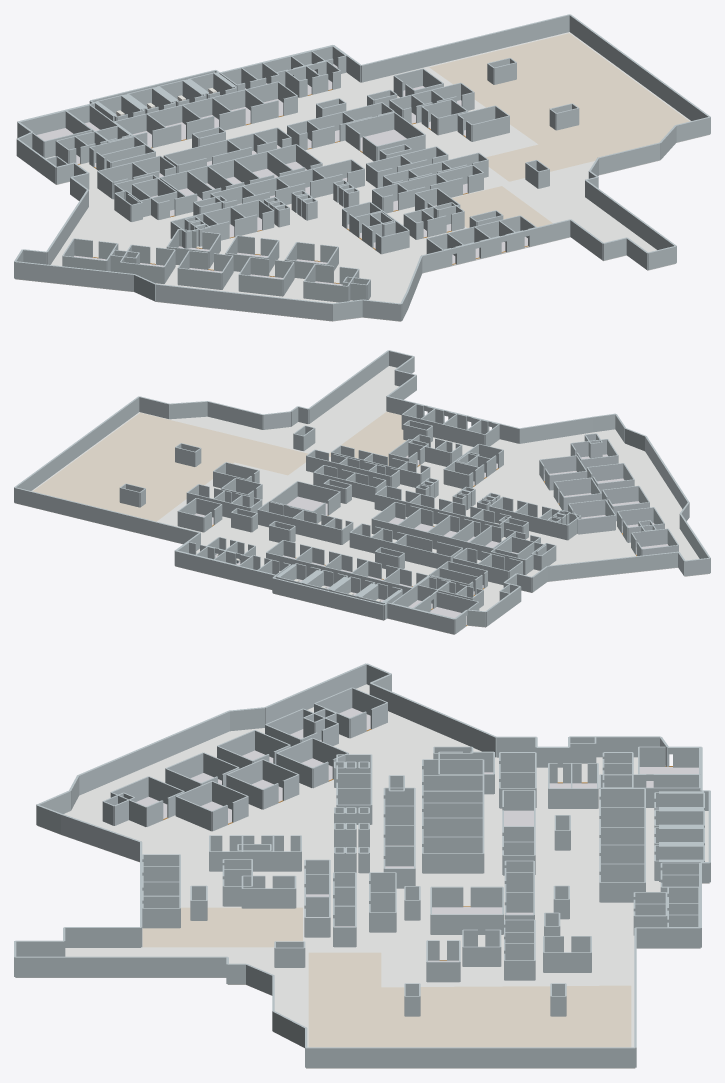
The model's file is dushu-B1.glb.
The picture shows the model from 3 angles, top to bottom: view 1: azimuth 30°, elevation 25°; view 2: azimuth 150°, elevation 25°; view 3: azimuth 270°, elevation 25°; orthographic projection. The views are drawn at different scales.
Parts seen in each view (by area): view 1: Floor slab, 图示东侧停车区（车位线不作为墙）, wall-6, wall-24, wall-7, wall-26, 图示地下停车区, wall-14, wall-19 (×2), wall-10, wall-29, wall-148 (+16 smaller); view 2: Floor slab, 图示东侧停车区（车位线不作为墙）, wall-6, wall-29, wall-7, wall-2, 图示地下停车区, wall-4, wall-14, wall-20, wall-0, wall-10 (+19 smaller); view 3: Floor slab, 图示东侧停车区（车位线不作为墙）, wall-7, 图示地下停车区, wall-14, wall-24, wall-29, wall-26, wall-20, wall-18, wall-5, wall-332 (+35 smaller).
Part boxes in pixels (x1,y1,x2,y2): Floor slab: [15, 32, 709, 321]; 图示东侧停车区（车位线不作为墙）: [429, 33, 689, 181]; wall-6: [361, 14, 569, 82]; wall-24: [155, 284, 332, 320]; wall-7: [569, 14, 710, 133]; wall-26: [14, 261, 134, 291]; 图示地下停车区: [436, 186, 552, 227]; wall-14: [585, 180, 676, 262]; wall-19 (×2): [421, 219, 570, 272]; wall-10: [598, 142, 660, 174]; wall-29: [46, 189, 88, 264]; wall-148: [164, 139, 227, 164]; Floor slab: [15, 366, 709, 634]; 图示东侧停车区（车位线不作为墙）: [33, 412, 308, 521]; wall-6: [14, 487, 200, 543]; wall-29: [547, 551, 678, 581]; wall-7: [14, 396, 139, 501]; wall-2: [272, 577, 383, 620]; 图示地下停车区: [329, 411, 407, 465]; wall-4: [175, 550, 276, 589]; wall-14: [308, 350, 388, 423]; wall-20: [519, 417, 592, 443]; wall-0: [387, 602, 454, 634]; wall-10: [207, 401, 262, 429]; Floor slab: [15, 684, 709, 1068]; 图示东侧停车区（车位线不作为墙）: [308, 952, 631, 1047]; wall-7: [306, 1047, 635, 1067]; 图示地下停车区: [142, 907, 302, 947]; wall-14: [15, 956, 227, 977]; wall-24: [77, 710, 229, 795]; wall-29: [369, 683, 496, 757]; wall-26: [265, 663, 366, 723]; wall-20: [61, 814, 141, 861]; wall-18: [64, 927, 140, 947]; wall-5: [635, 927, 700, 948]; wall-332: [431, 914, 502, 934].
Size of the model in its own units: 134 by 3.38 by 102.
